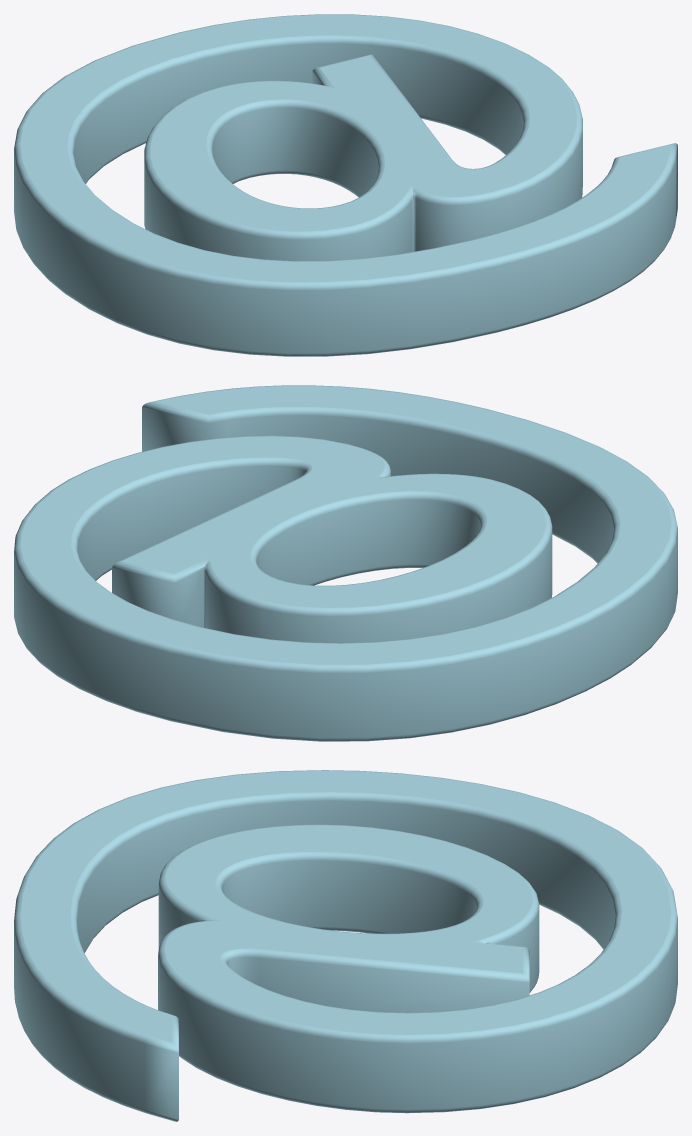
The picture shows the model from 3 angles, top to bottom: view 1: azimuth 30°, elevation 25°; view 2: azimuth 150°, elevation 25°; view 3: azimuth 270°, elevation 25°; orthographic projection. The views are drawn at different scales.
Visible parts, largest first — view 1: At; view 2: At; view 3: At.
Boxes of the visible parts, x1=… form: At: x1=14, y1=14, x2=677, y2=356; At: x1=14, y1=385, x2=677, y2=741; At: x1=14, y1=770, x2=677, y2=1121.
Size of the model in its own units: 4.01 by 0.52 by 4.02.
